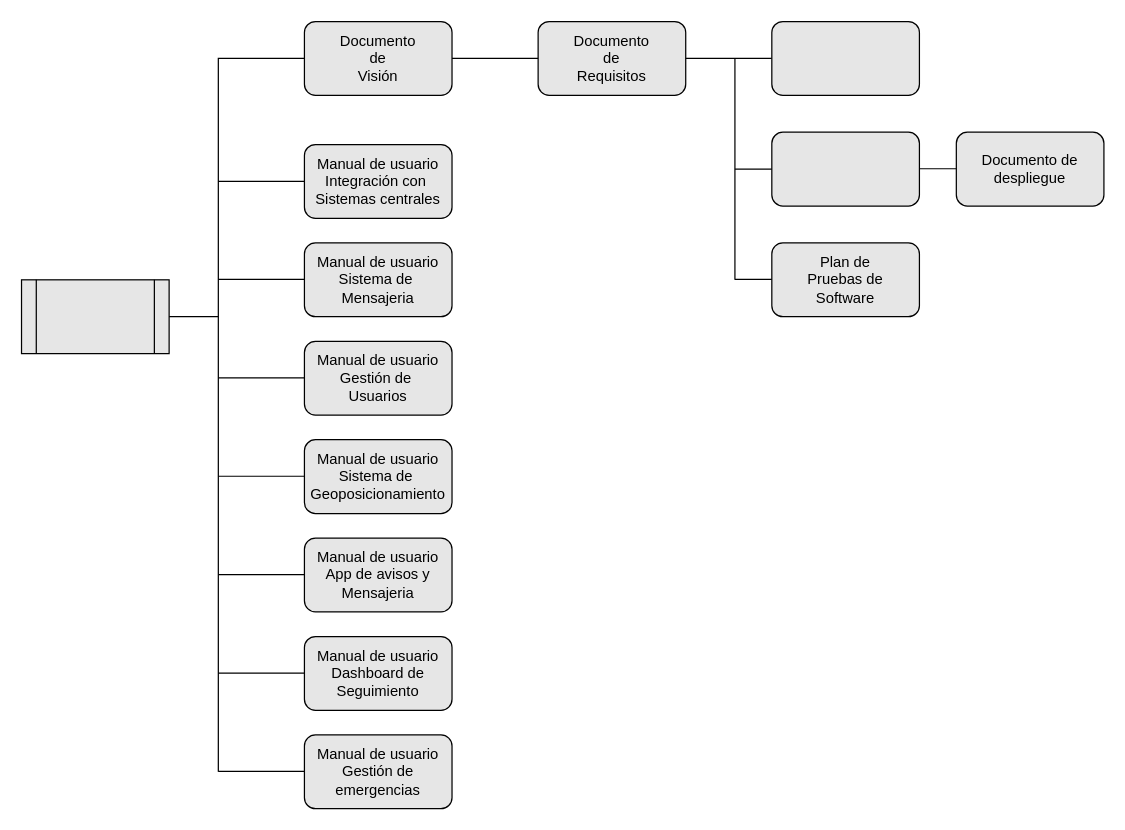
The diagram is 1125 pixels wide and 830 high, and some of its shapes have lost their labels. The shapes that lost their labels are listed below. From the top down, each one's centre as x and y in pixels, then its label:
At point (845, 57): "Plan de Proyecto".
At point (845, 168): "Documentación de Diseño".
At point (94, 316): "Documentación".
